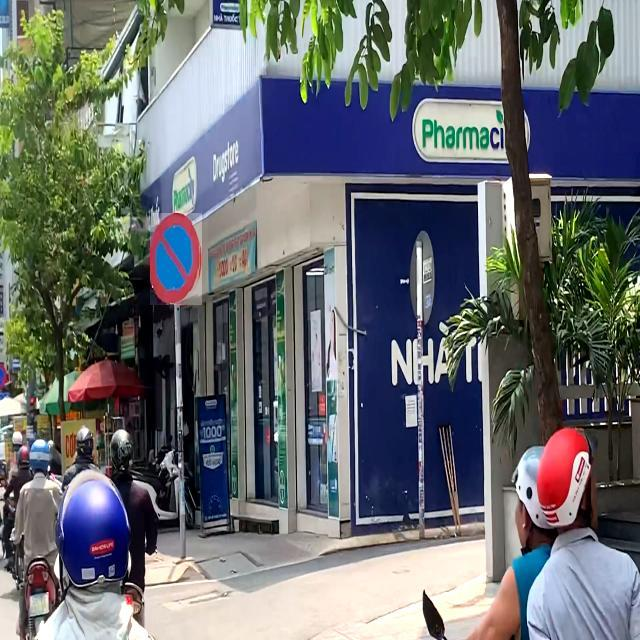P-131a: (150, 213, 202, 305)
